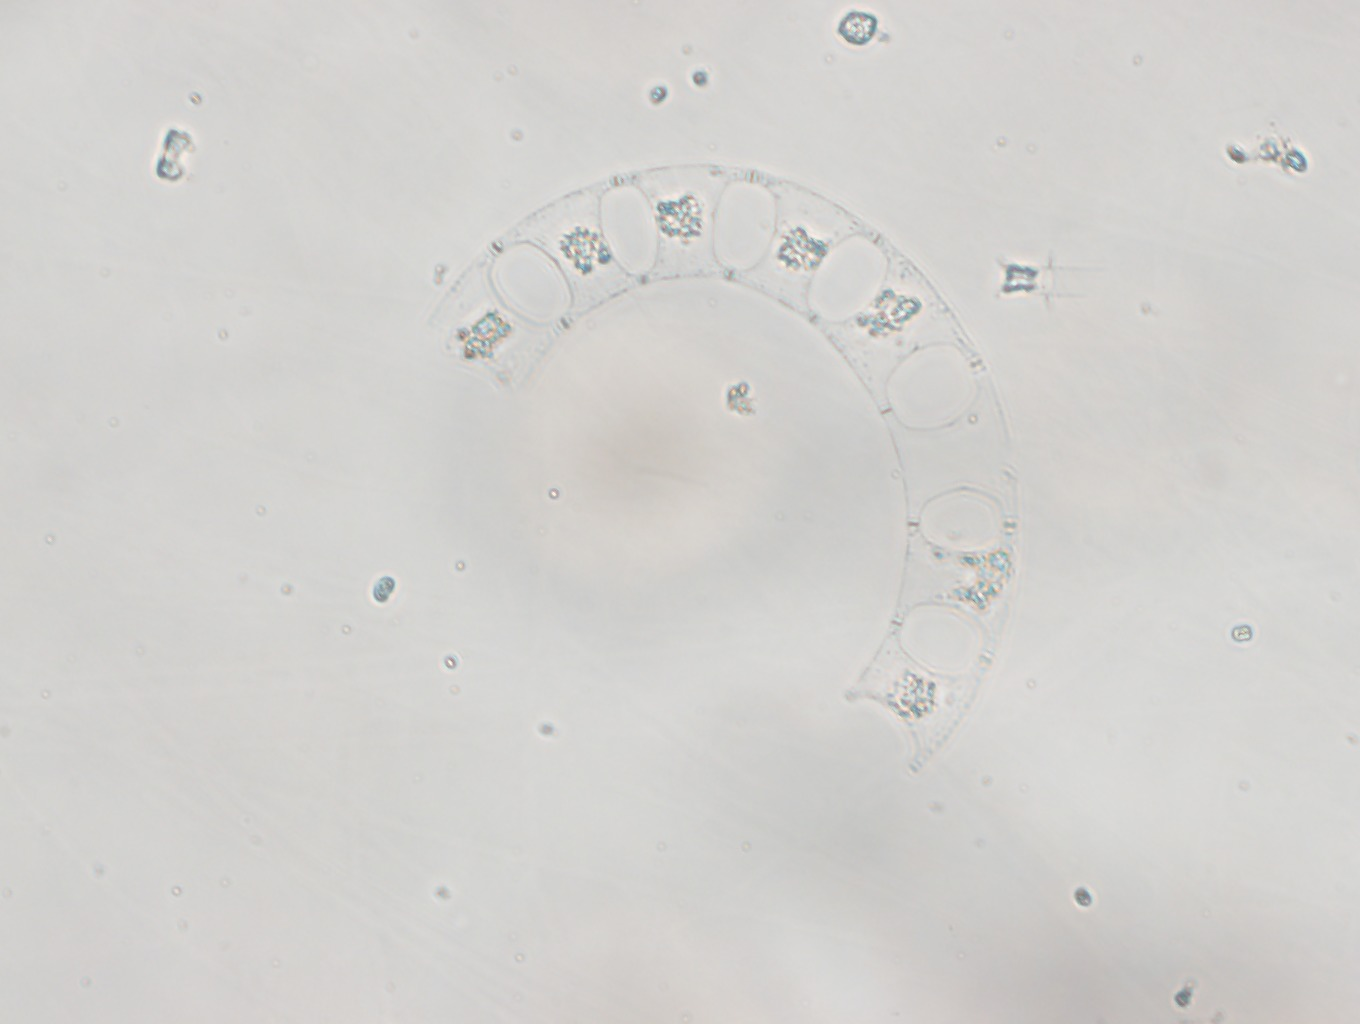eucampia: (423, 156, 1023, 776)
